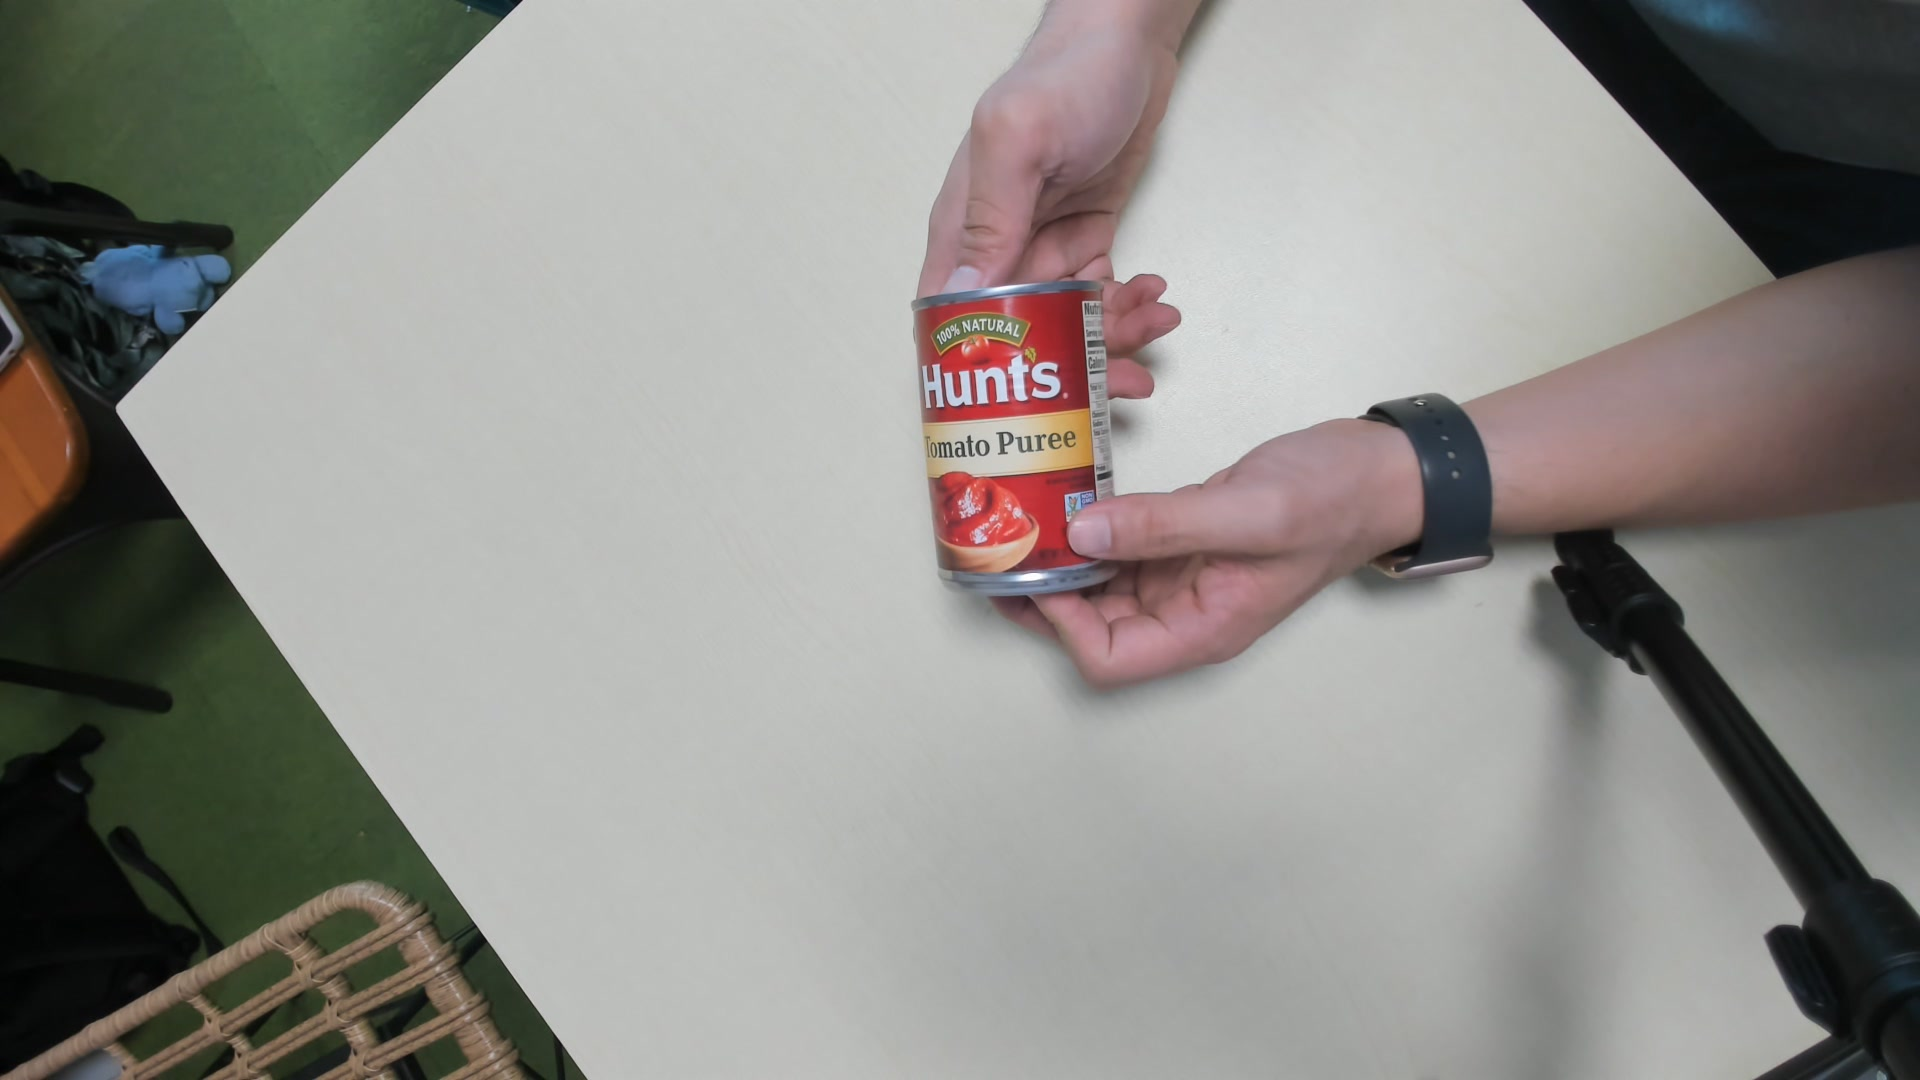OtherSauceDressing_300-399g_NonHalal_NonHealthy: (903, 282, 1120, 603)
